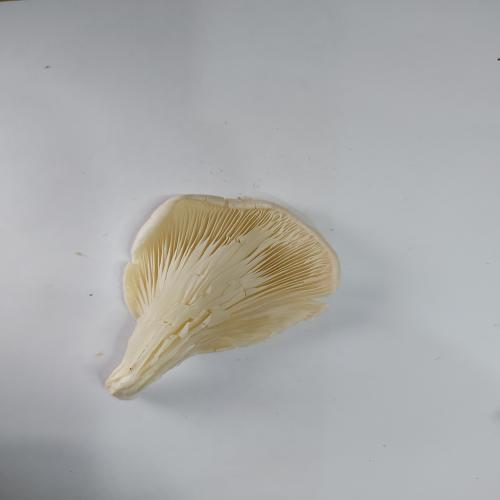Oyster Mushroom: (104, 193, 341, 401)
